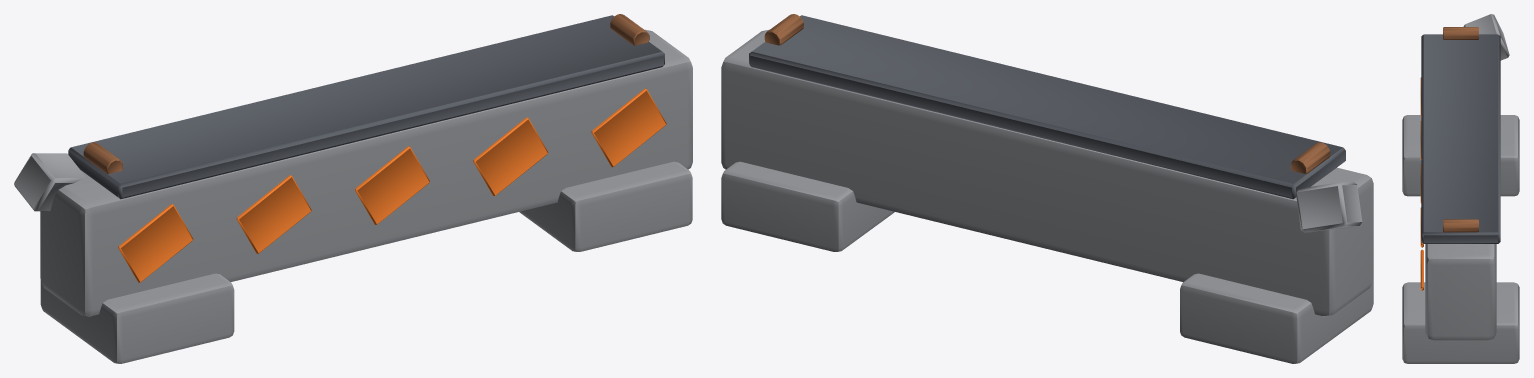
Rendered from concrete_barricade.glb.
The picture shows the model from 3 angles, left to right: view 1: azimuth 30°, elevation 25°; view 2: azimuth 150°, elevation 25°; view 3: azimuth 270°, elevation 25°; orthographic projection. The views are drawn at different scales.
Parts seen in each view (by area): view 1: concrete_barricade; view 2: concrete_barricade; view 3: concrete_barricade.
Part boxes in pixels (x1,y1,x2,y2): concrete_barricade: (14,14,692,363); concrete_barricade: (721,14,1373,363); concrete_barricade: (1402,14,1519,363).
Bounding box in the file's own units: 4.28 × 1.18 × 0.92.
